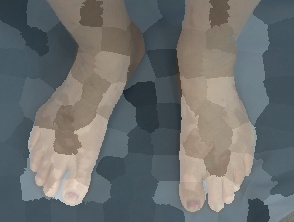vitiligo: (15, 49, 133, 202), (175, 66, 258, 202)
